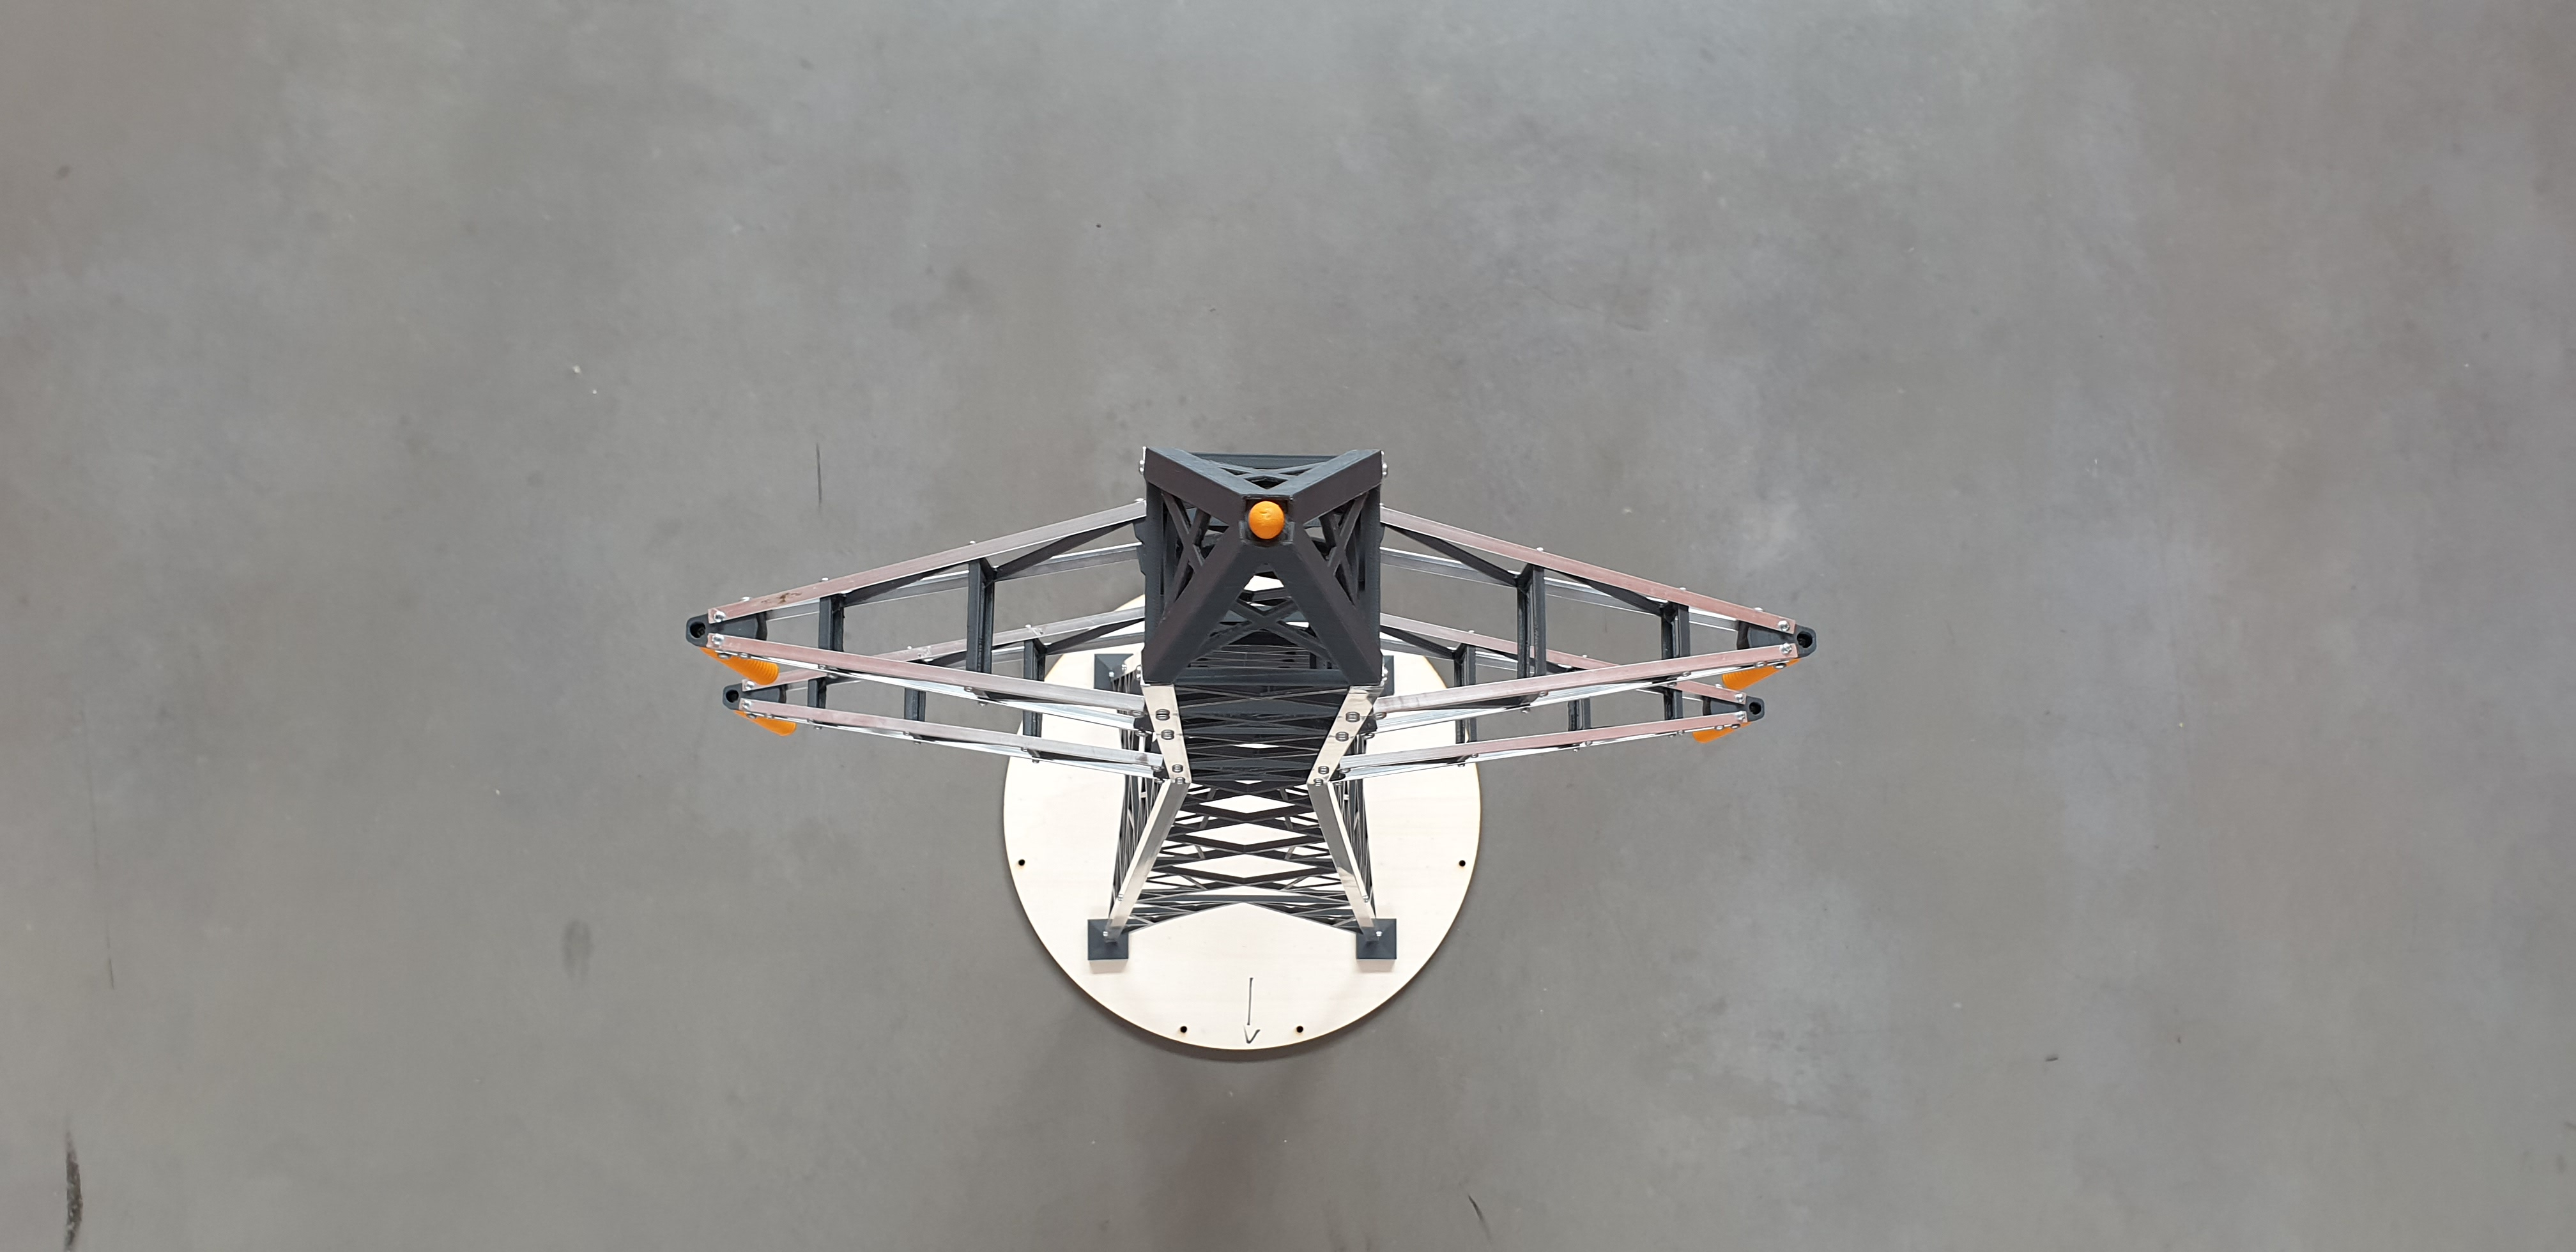pylon_phy: (678, 439, 1825, 733)
